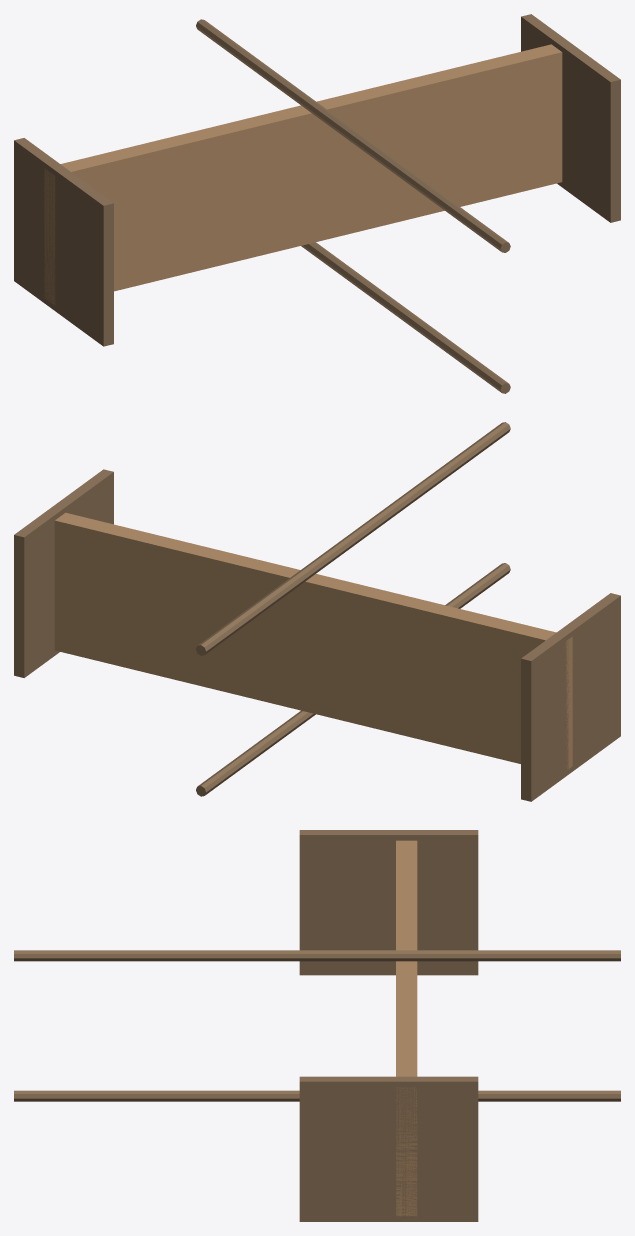
File: mod_bridge_rope.glb
3 renders of one model, top to bottom at view 1: azimuth 30°, elevation 25°; view 2: azimuth 150°, elevation 25°; view 3: azimuth 270°, elevation 25°, orthographic.
Parts seen in each view (by area): view 1: deck, post_l, post_r, rope_r, rope_l; view 2: deck, post_l, post_r, rope_r, rope_l; view 3: post_r, post_l, deck, rope_r, rope_l.
Part boxes in pixels (x1,y1,x2,y2): deck: (44,44,562,305); post_l: (14,138,113,346); post_r: (521,14,620,222); rope_r: (196,19,510,252); rope_l: (301,242,510,393); deck: (54,512,572,769); post_l: (521,593,620,801); post_r: (14,469,113,677); rope_r: (196,422,510,655); rope_l: (196,563,510,796); post_r: (299,1076,478,1221); post_l: (299,830,478,975); deck: (396,840,417,1216); rope_r: (14,950,620,961); rope_l: (14,1090,620,1101).
Size of the model in its own units: 5 by 1.4 by 5.1.
